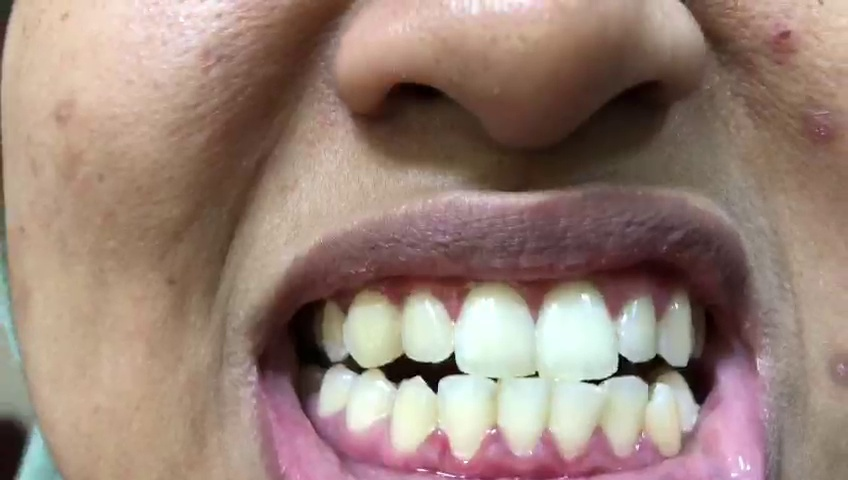1st Premolar: (347, 370, 396, 434), (657, 370, 701, 434), (315, 297, 348, 365)
2nd Premolar: (317, 364, 355, 426)
Canine: (343, 285, 399, 367), (393, 374, 438, 455), (658, 290, 696, 368), (650, 380, 687, 459)
Central Incisor: (535, 283, 620, 379), (456, 277, 535, 379), (550, 377, 600, 460), (498, 379, 548, 461)
Lateral Incisor: (438, 374, 497, 465), (603, 372, 649, 464), (401, 291, 455, 365), (618, 284, 656, 366)
